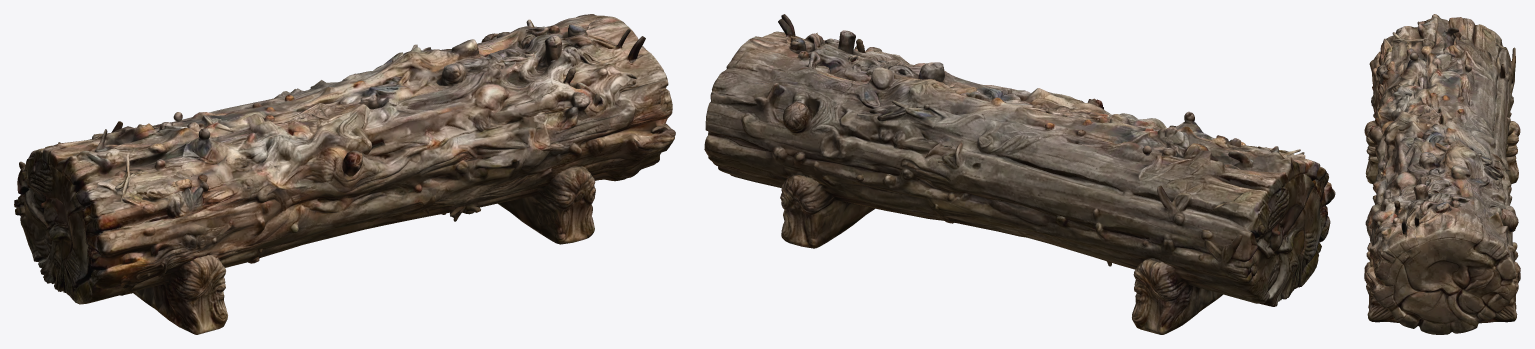
Rendered from log-bench.glb.
The picture shows the model from 3 angles, left to right: view 1: azimuth 30°, elevation 25°; view 2: azimuth 150°, elevation 25°; view 3: azimuth 270°, elevation 25°; orthographic projection. The views are drawn at different scales.
Parts seen in each view (by area): view 1: node_52c9fd09-71d2-4f5b-900d-c42cdb403a66; view 2: node_52c9fd09-71d2-4f5b-900d-c42cdb403a66; view 3: node_52c9fd09-71d2-4f5b-900d-c42cdb403a66.
Part boxes in pixels (x1,y1,x2,y2): node_52c9fd09-71d2-4f5b-900d-c42cdb403a66: (14, 14, 675, 334); node_52c9fd09-71d2-4f5b-900d-c42cdb403a66: (704, 14, 1335, 334); node_52c9fd09-71d2-4f5b-900d-c42cdb403a66: (1364, 14, 1520, 334).
Size of the model in its own units: 0.9819 by 0.2864 by 0.2987.
1 material, 1 textured.
